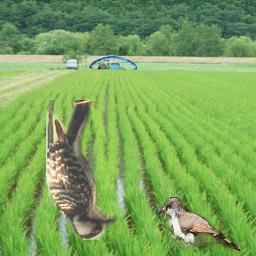Cuckoo: (158, 198, 240, 253)
Woodpecker: (47, 100, 118, 240)
